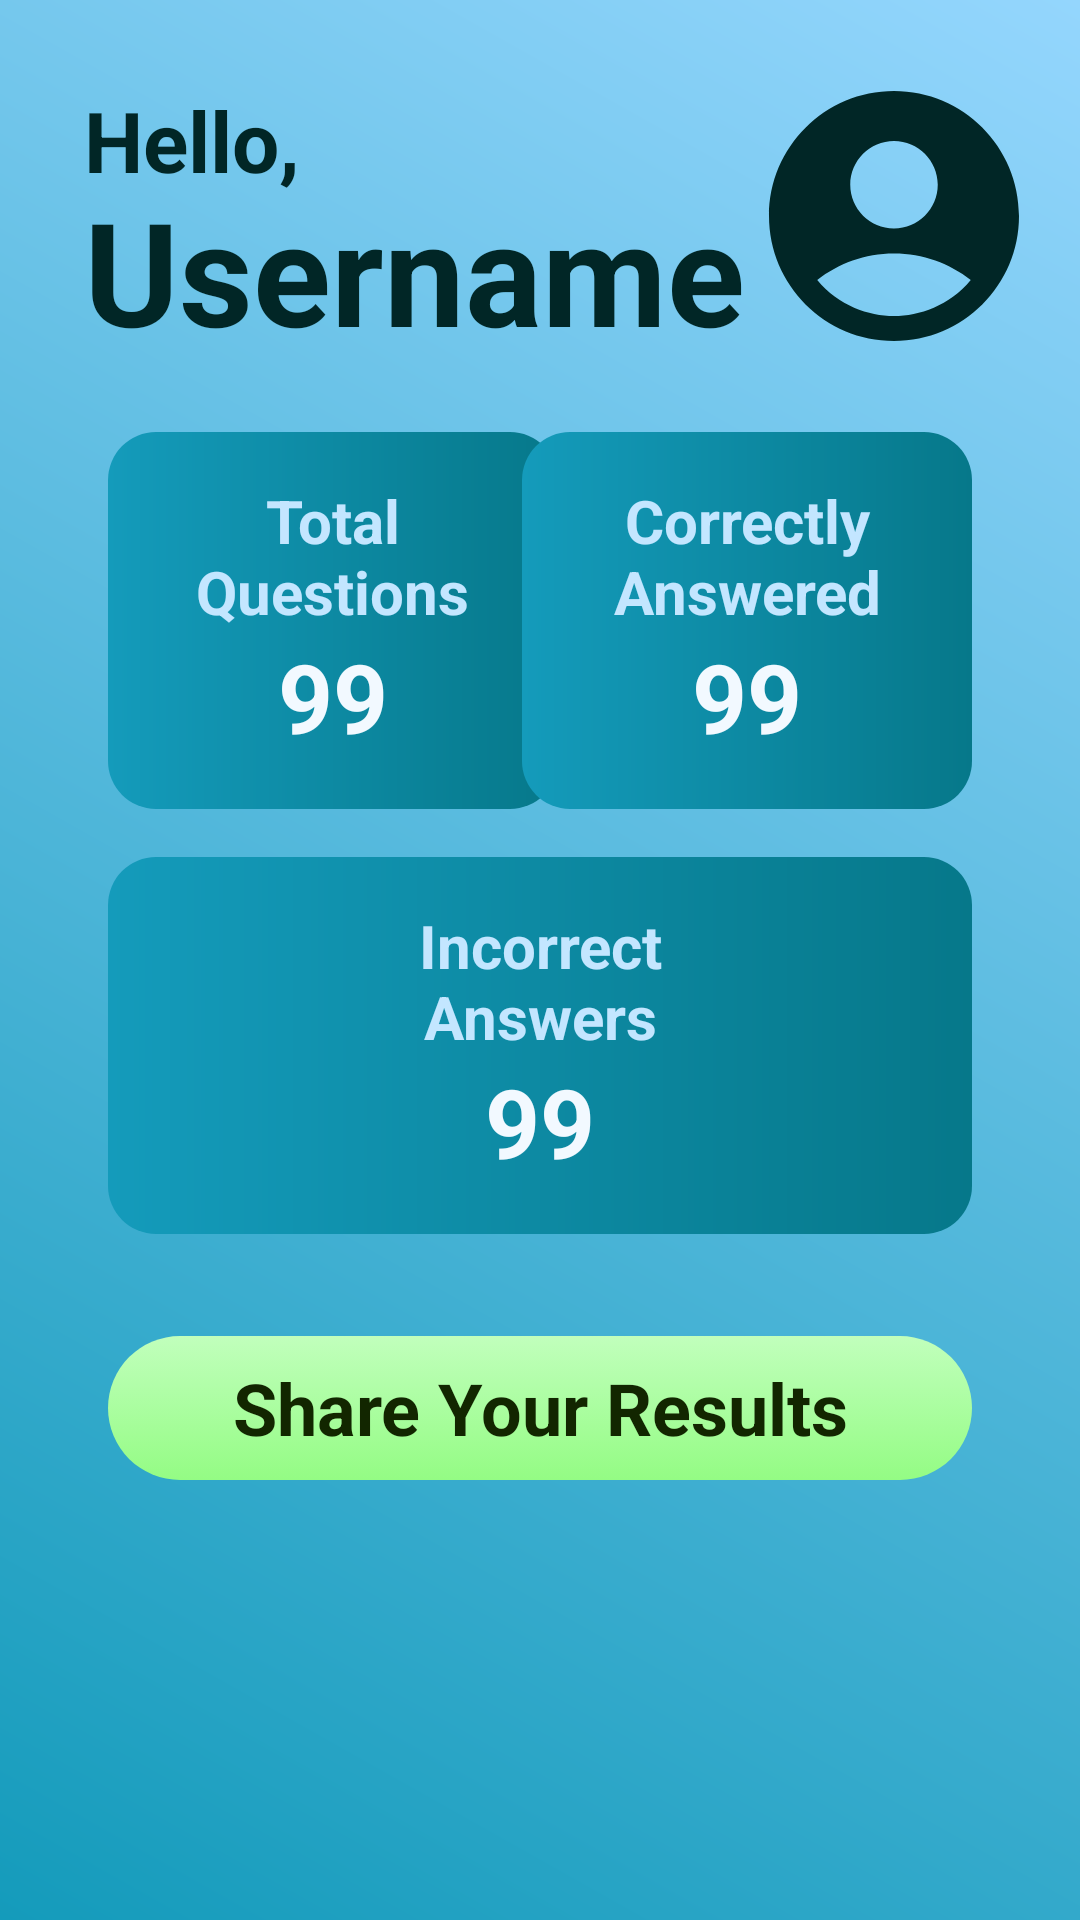

Screen size 1080w x 1920h. Icon name, then its box in pixels as BBox(x1, y1, x2, y2):
Profile Picture: BBox(769, 91, 1019, 341)
